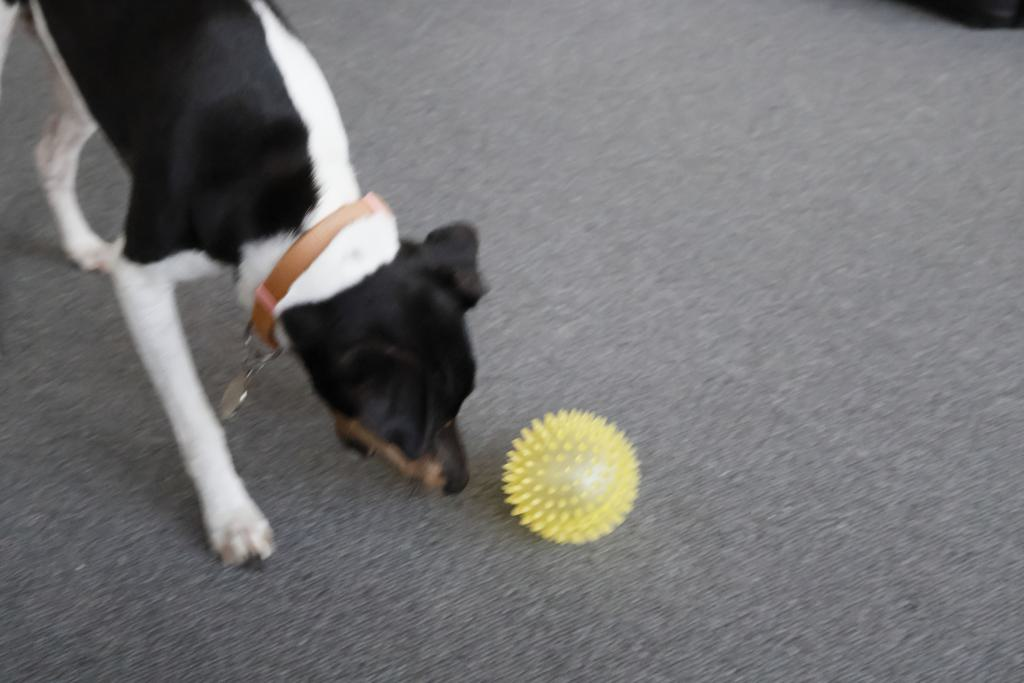Dog: (0, 0, 507, 581)
